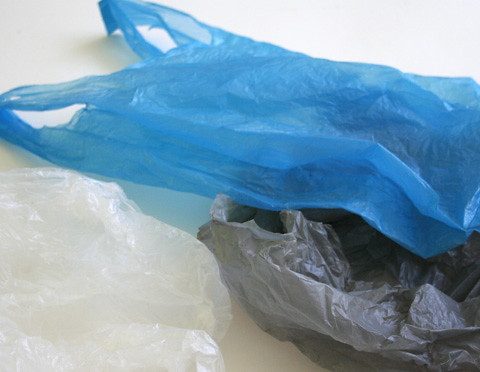plastic bag: (1, 1, 480, 372)
